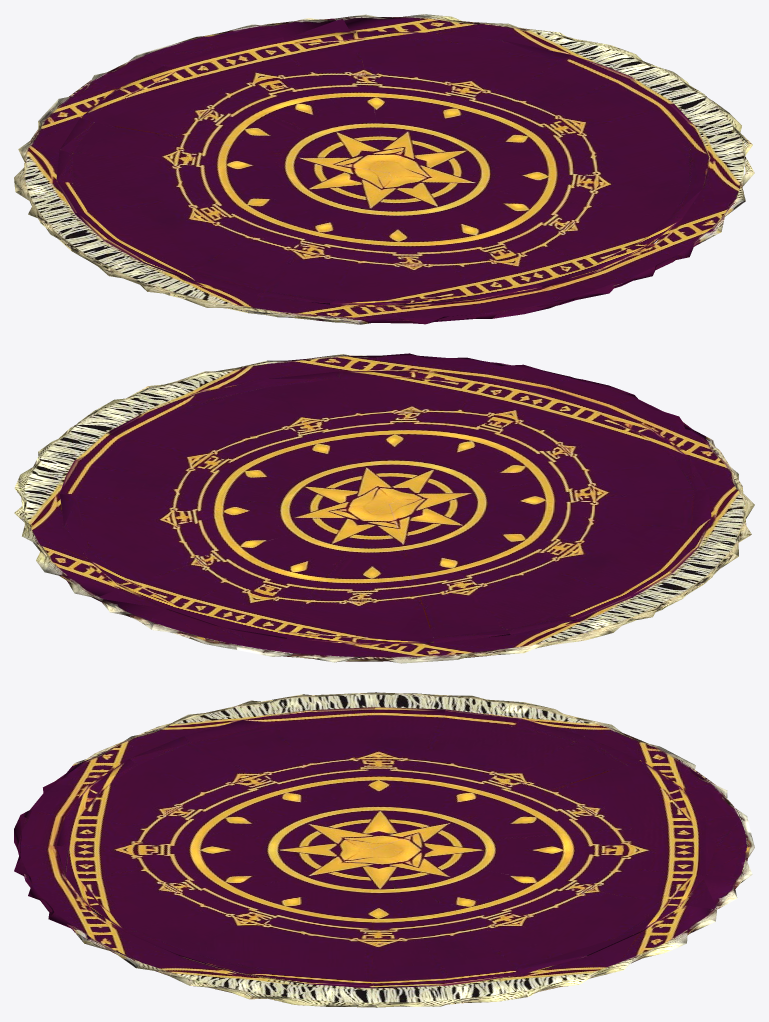
The model's file is rune-rug.glb.
3 renders of one model, top to bottom at view 1: azimuth 30°, elevation 25°; view 2: azimuth 150°, elevation 25°; view 3: azimuth 270°, elevation 25°, orthographic.
Size of the model in its own units: 2.4 by 0.02 by 2.4.
Materials: 1 (1 with a texture image).
